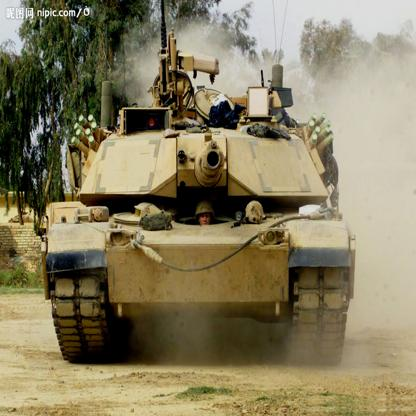Tank: (41, 19, 357, 369)
